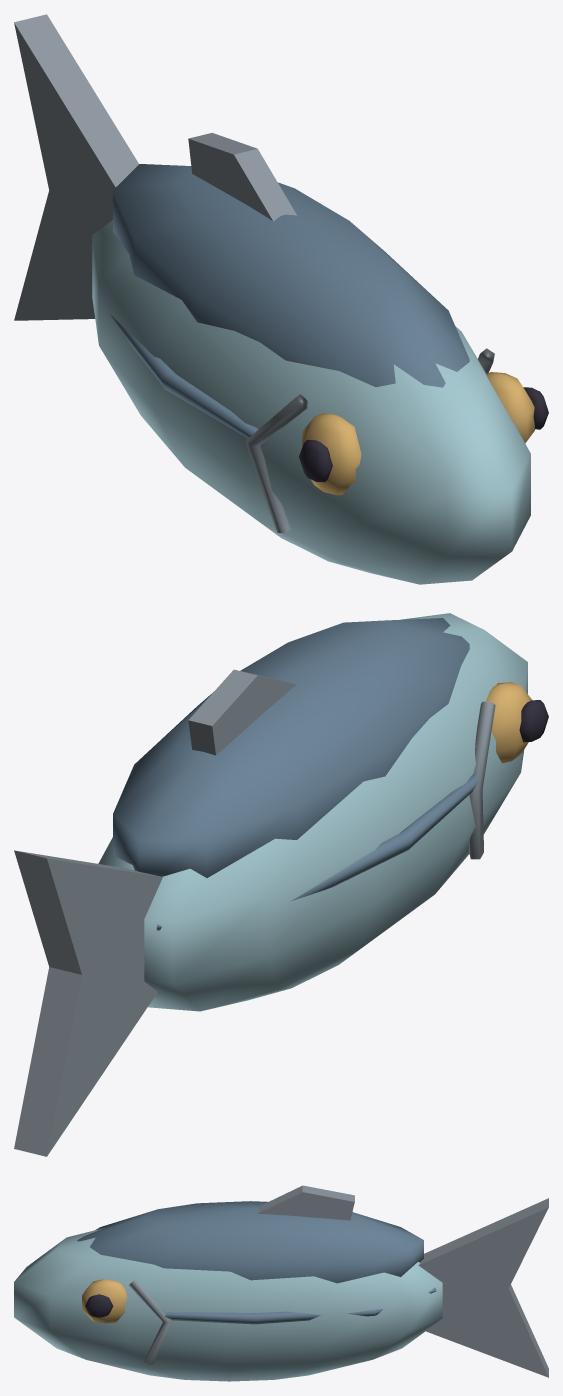
The model's file is fish.glb.
The picture shows the model from 3 angles, top to bottom: view 1: azimuth 30°, elevation 25°; view 2: azimuth 150°, elevation 25°; view 3: azimuth 270°, elevation 25°; orthographic projection. The views are drawn at different scales.
Parts seen in each view (by area): view 1: fish; view 2: fish; view 3: fish.
Part boxes in pixels (x1,y1,x2,y2): fish: [14, 14, 548, 584]; fish: [14, 613, 548, 1156]; fish: [14, 1185, 548, 1381].
Bounding box in the file's own units: 0.08 × 0.1 × 0.26.
